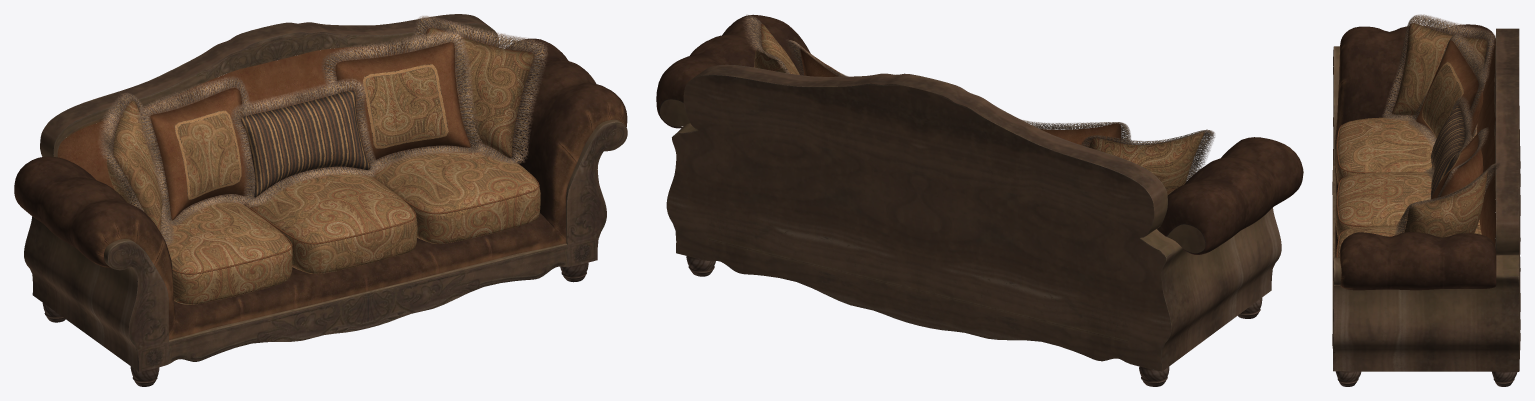
Rendered from sheen_c.glb.
The picture shows the model from 3 angles, left to right: view 1: azimuth 30°, elevation 25°; view 2: azimuth 150°, elevation 25°; view 3: azimuth 270°, elevation 25°; orthographic projection. The views are drawn at different scales.
Visible parts, largest first — view 1: Frame, Paisley, Fringe, Brown, Stripes, Frame_Fabric; view 2: Frame, Paisley, Fringe, Brown; view 3: Frame, Paisley, Fringe, Brown, Frame_Fabric, Stripes.
Boxes of the visible parts, x1,y1,x2,y2 form: Frame: [14, 14, 627, 386]; Paisley: [107, 27, 540, 304]; Fringe: [98, 16, 547, 246]; Brown: [150, 42, 539, 274]; Stripes: [174, 64, 448, 199]; Frame_Fabric: [57, 34, 494, 189]; Frame: [656, 14, 1303, 386]; Paisley: [754, 23, 1204, 194]; Fringe: [743, 15, 1214, 182]; Brown: [800, 46, 1121, 147]; Frame: [1332, 24, 1520, 386]; Paisley: [1335, 23, 1487, 257]; Fringe: [1382, 14, 1499, 235]; Brown: [1336, 40, 1483, 257]; Frame_Fabric: [1477, 39, 1495, 245]; Stripes: [1422, 61, 1472, 198].
Size of the model in its own units: 2.73 by 1.12 by 0.9232.
Materials: 6 (6 with a texture image).
